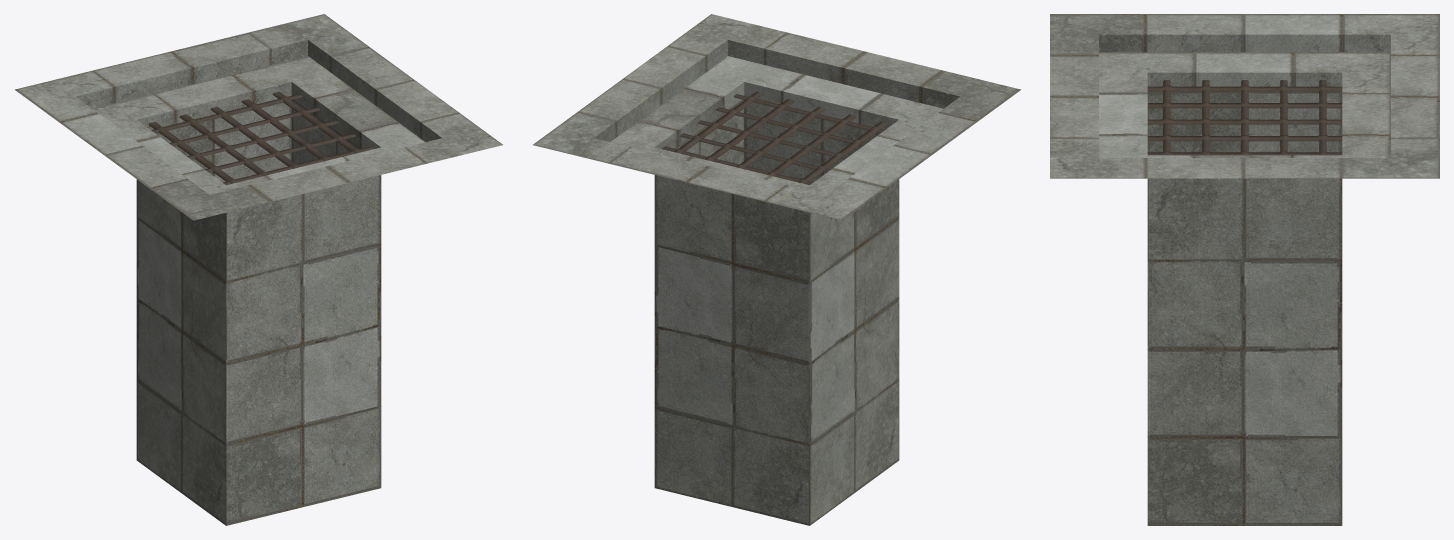
File: floor_pit_2x2.fbx
3 renders of one model, left to right at view 1: azimuth 30°, elevation 25°; view 2: azimuth 150°, elevation 25°; view 3: azimuth 270°, elevation 25°, orthographic. The views are drawn at different scales.
Visible parts, largest first — view 1: floor_pit_2x2; view 2: floor_pit_2x2; view 3: floor_pit_2x2.
Part boxes in pixels (<box>): floor_pit_2x2: <box>15,14,502,525</box>; floor_pit_2x2: <box>533,14,1020,525</box>; floor_pit_2x2: <box>1050,14,1439,525</box>.
Size of the model in its own units: 200 by 220 by 200.
